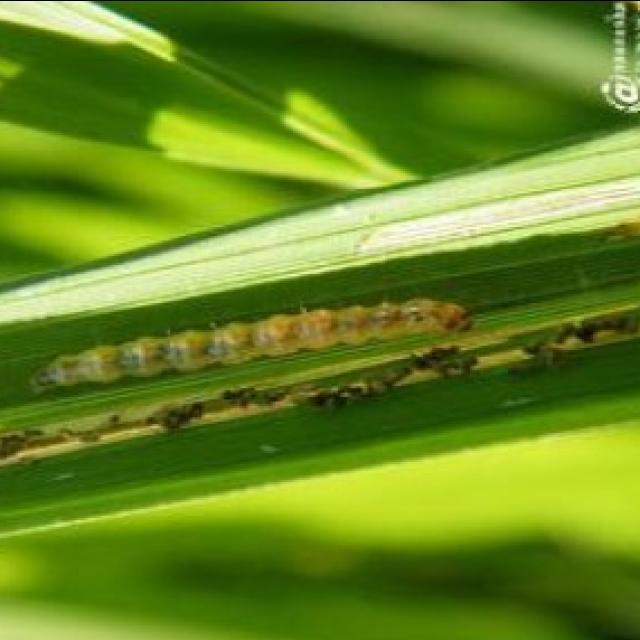rice leaf roller: (34, 300, 468, 389)
